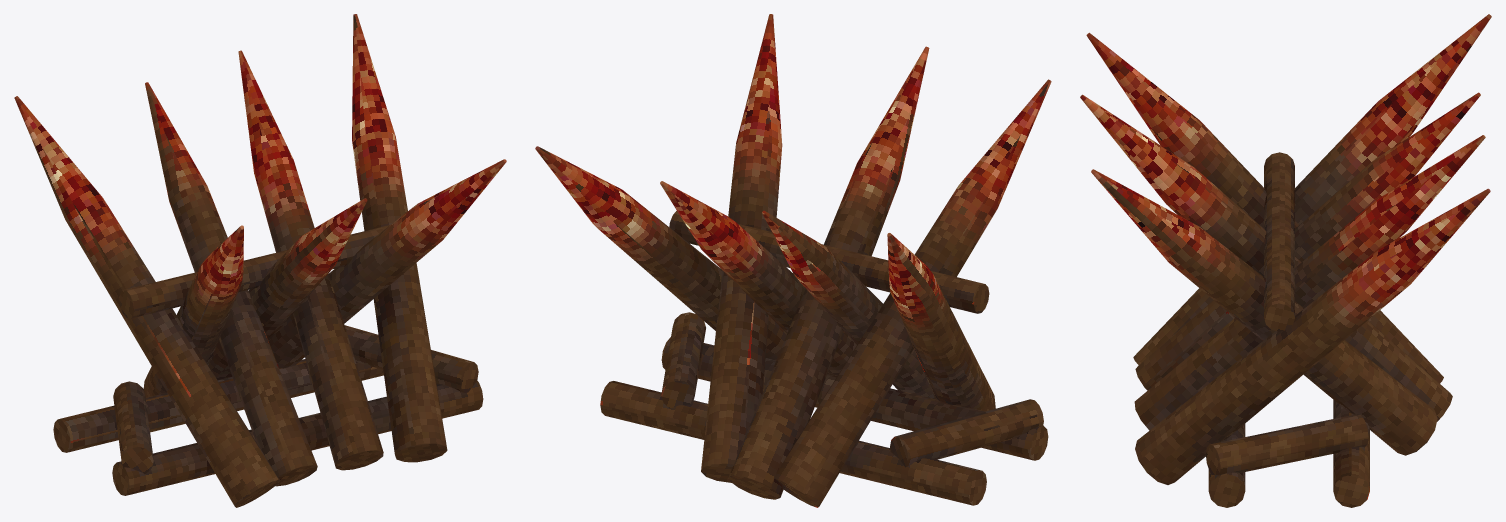
File: Spike_Fence_Variant_3_Alternative_2.gltf
3 views of the same model, side by side, from view 1: azimuth 30°, elevation 25°; view 2: azimuth 150°, elevation 25°; view 3: azimuth 270°, elevation 25° (orthographic). The views are drawn at different scales.
Parts seen in each view (by area): view 1: Spike_Fence_Variant_3_Alternative_2; view 2: Spike_Fence_Variant_3_Alternative_2; view 3: Spike_Fence_Variant_3_Alternative_2.
Part boxes in pixels (left/top/right/bottom): Spike_Fence_Variant_3_Alternative_2: left=14, top=14, right=506, bottom=507; Spike_Fence_Variant_3_Alternative_2: left=535, top=14, right=1051, bottom=507; Spike_Fence_Variant_3_Alternative_2: left=1080, top=14, right=1491, bottom=507.
Size of the model in its own units: 4.86 by 4.1 by 4.53.
Materials: 1 (1 with a texture image).
